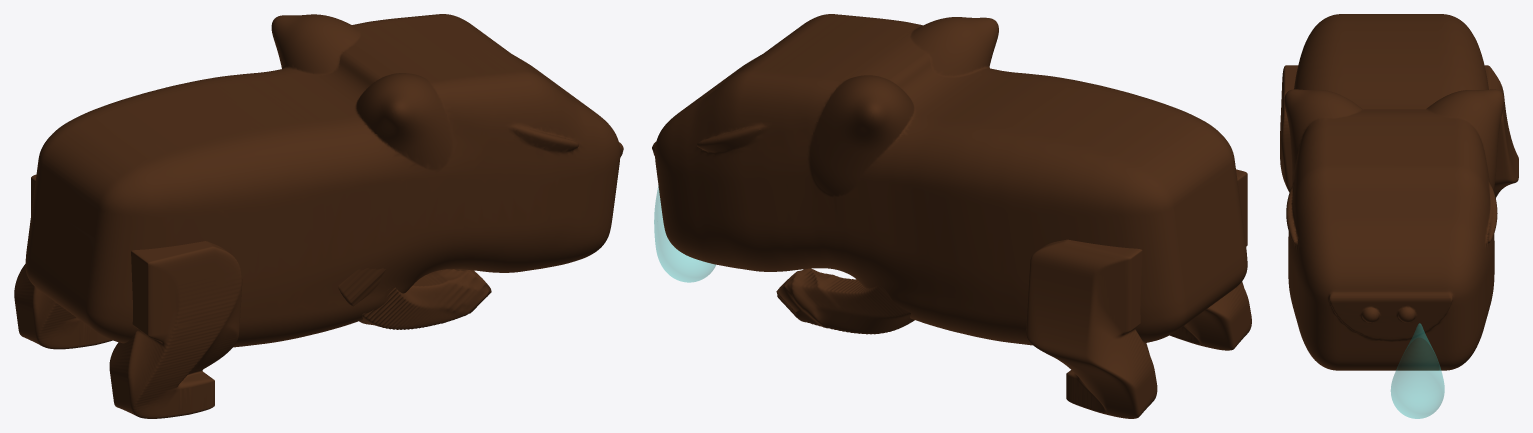
Rendered from capysleepin-transformed.glb.
3 views of the same model, side by side, from view 1: azimuth 30°, elevation 25°; view 2: azimuth 150°, elevation 25°; view 3: azimuth 270°, elevation 25° (orthographic). The views are drawn at different scales.
Visible parts, largest first — view 1: body, BL; view 2: body, BL, snot; view 3: body, snot, BL.
Boxes of the visible parts, box(x1,y1,x2,y2) form: body: box(25, 14, 623, 347); BL: box(14, 174, 491, 418); body: box(652, 14, 1247, 345); BL: box(776, 169, 1251, 418); snot: box(654, 186, 715, 282); body: box(1284, 14, 1504, 370); snot: box(1391, 323, 1444, 418); BL: box(1280, 65, 1518, 198).
Bounding box in the file's own units: 444 × 211 × 195.
Materials: 2 (1 with a texture image).
